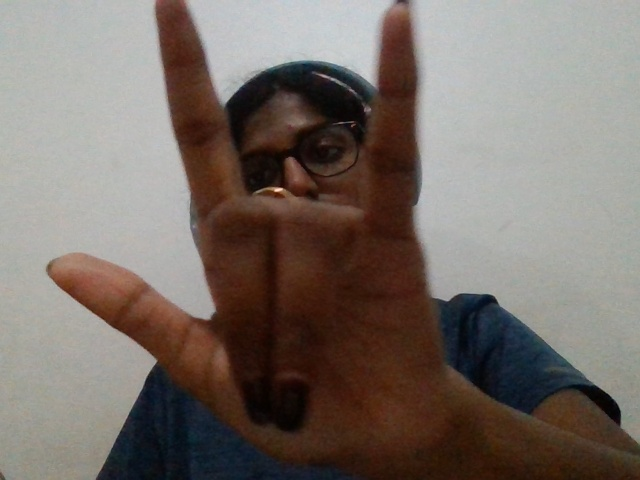I Love You: (22, 3, 562, 460)
